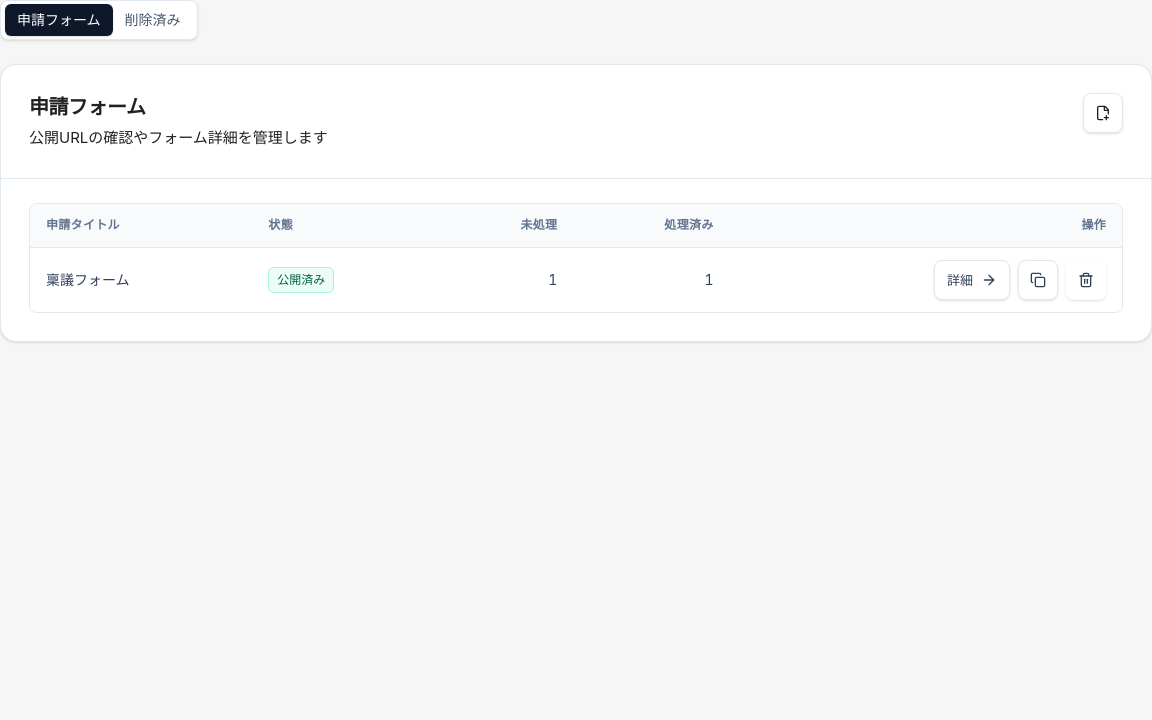
Test: SpaceApplicationsPageContent › renders active forms and opens the archive dialog
Expected: the heading "申請フォーム" is shown, [29, 93, 145, 121]
Expected: the text "稟議フォーム" is shown, [30, 248, 252, 312]
Step 1. Click the button named "削除" → click(1086, 280), box [1066, 260, 1106, 300]
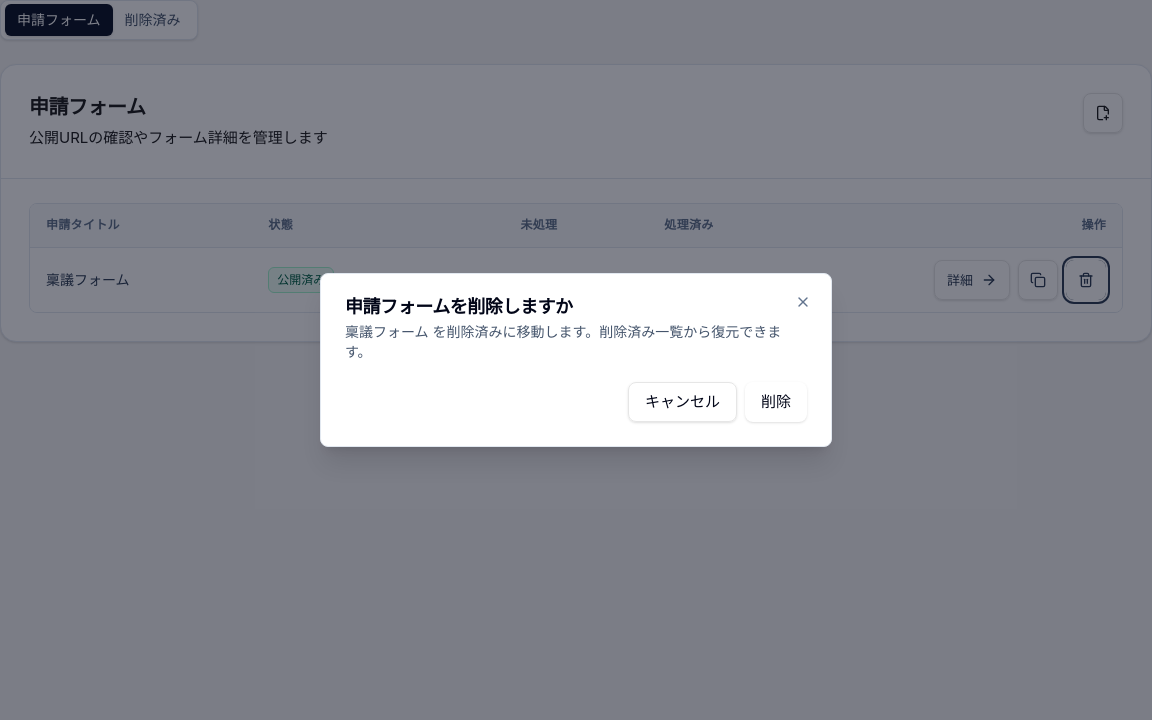
Expected: the heading "申請フォームを削除しますか" is shown, [345, 296, 573, 317]
Expected: the text "稟議フォーム を削除済みに移動します。削除済み一覧から復元できます。" is shown, [345, 322, 807, 362]
